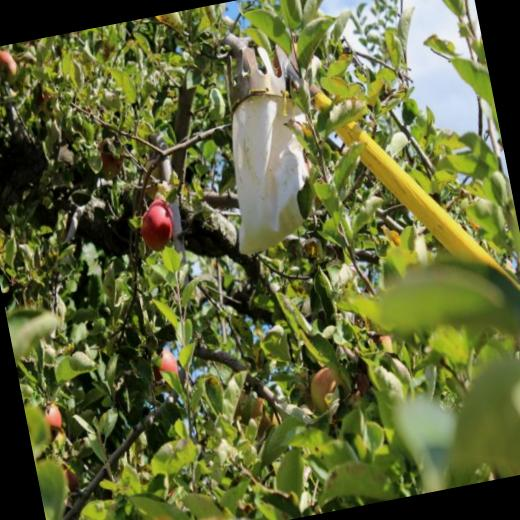Apple: (303, 361, 361, 424), (136, 197, 183, 256), (94, 135, 126, 180), (149, 343, 182, 385), (138, 156, 168, 199), (0, 47, 22, 87), (34, 89, 60, 121), (40, 398, 62, 432), (374, 332, 397, 358), (61, 462, 80, 492)
